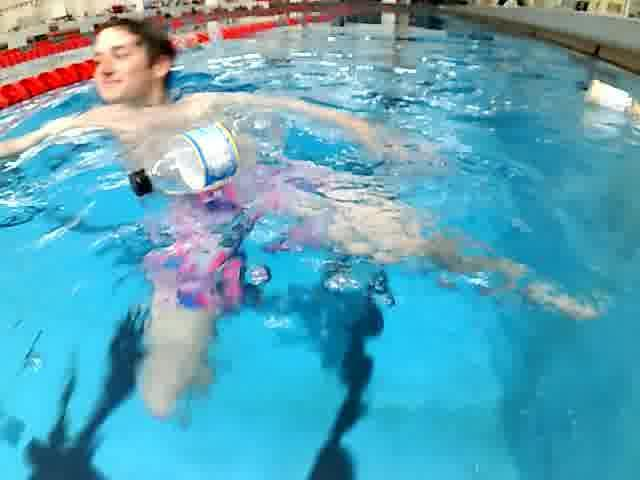Bottle: (120, 102, 284, 204), (572, 74, 640, 126)
